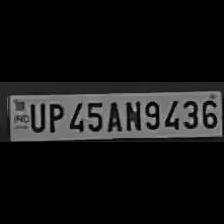3: (180, 97, 198, 129)
4: (64, 100, 84, 132), (161, 97, 179, 129)
5: (83, 98, 103, 132)
6: (198, 96, 218, 130)
9: (142, 97, 160, 130)
A: (105, 98, 123, 132)
N: (122, 97, 140, 131)
P: (44, 100, 64, 134)
U: (26, 100, 44, 132)
